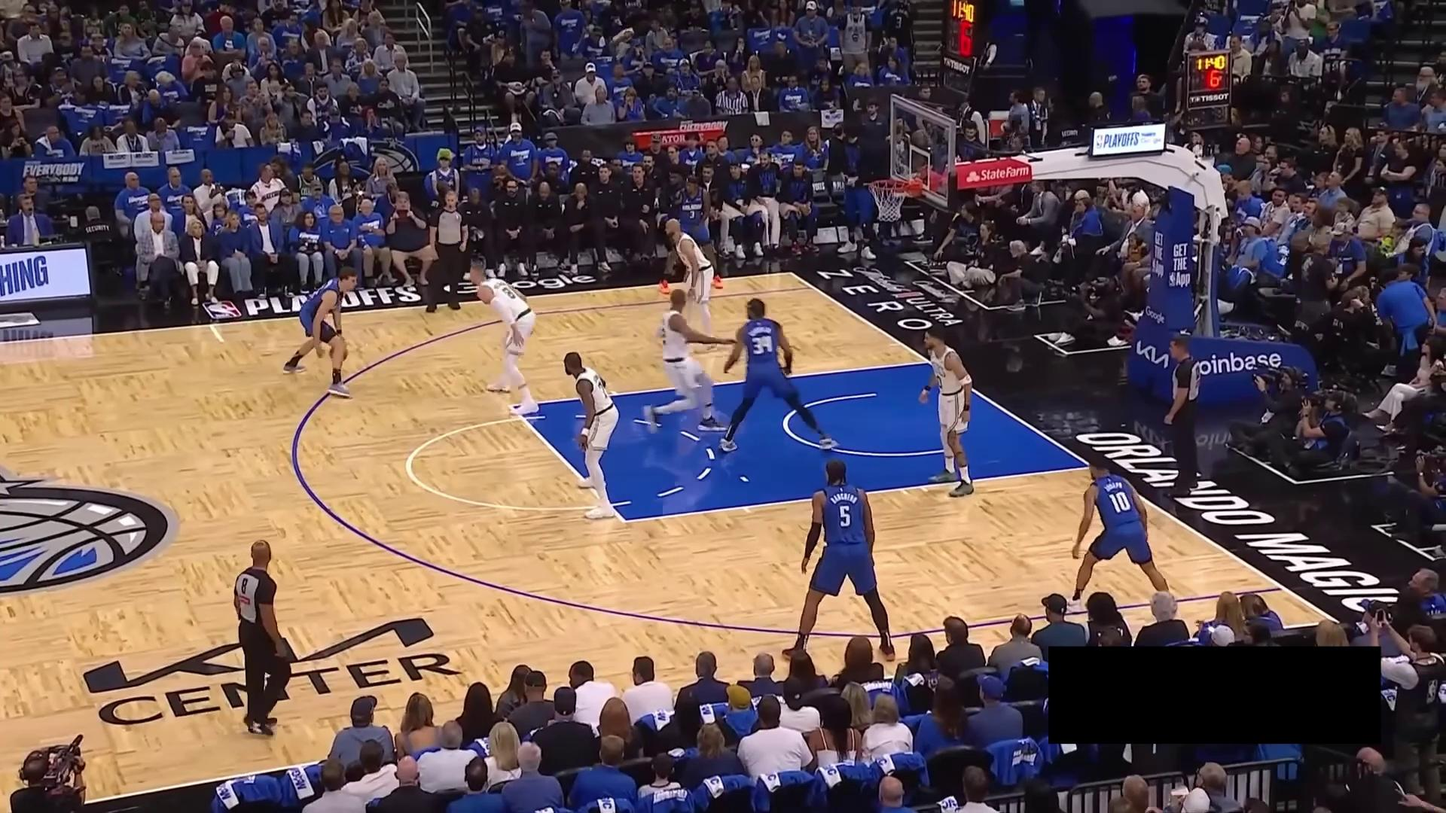ball: (328, 343, 348, 363)
number: (1108, 491, 1131, 513), (752, 336, 772, 355), (839, 504, 851, 528), (502, 286, 517, 300), (597, 382, 608, 398), (688, 209, 696, 220)
player: (780, 458, 897, 662), (719, 297, 841, 454), (1065, 453, 1170, 617), (644, 288, 737, 434), (468, 260, 541, 416), (918, 325, 976, 497), (563, 350, 620, 519), (658, 174, 725, 294), (664, 218, 718, 353)
player-in-possession: (282, 266, 359, 399)
referee: (233, 540, 293, 737), (1162, 334, 1203, 498), (426, 188, 470, 314)
rim: (868, 178, 909, 191)
